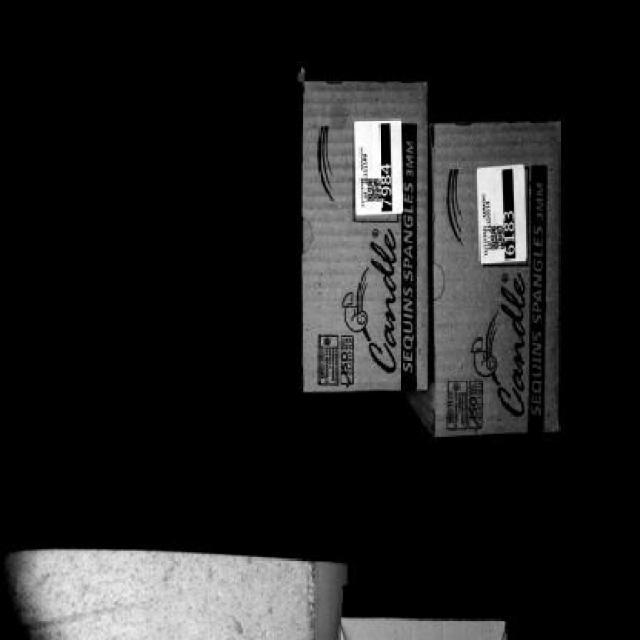box: (312, 75, 431, 394), (436, 124, 558, 430)
